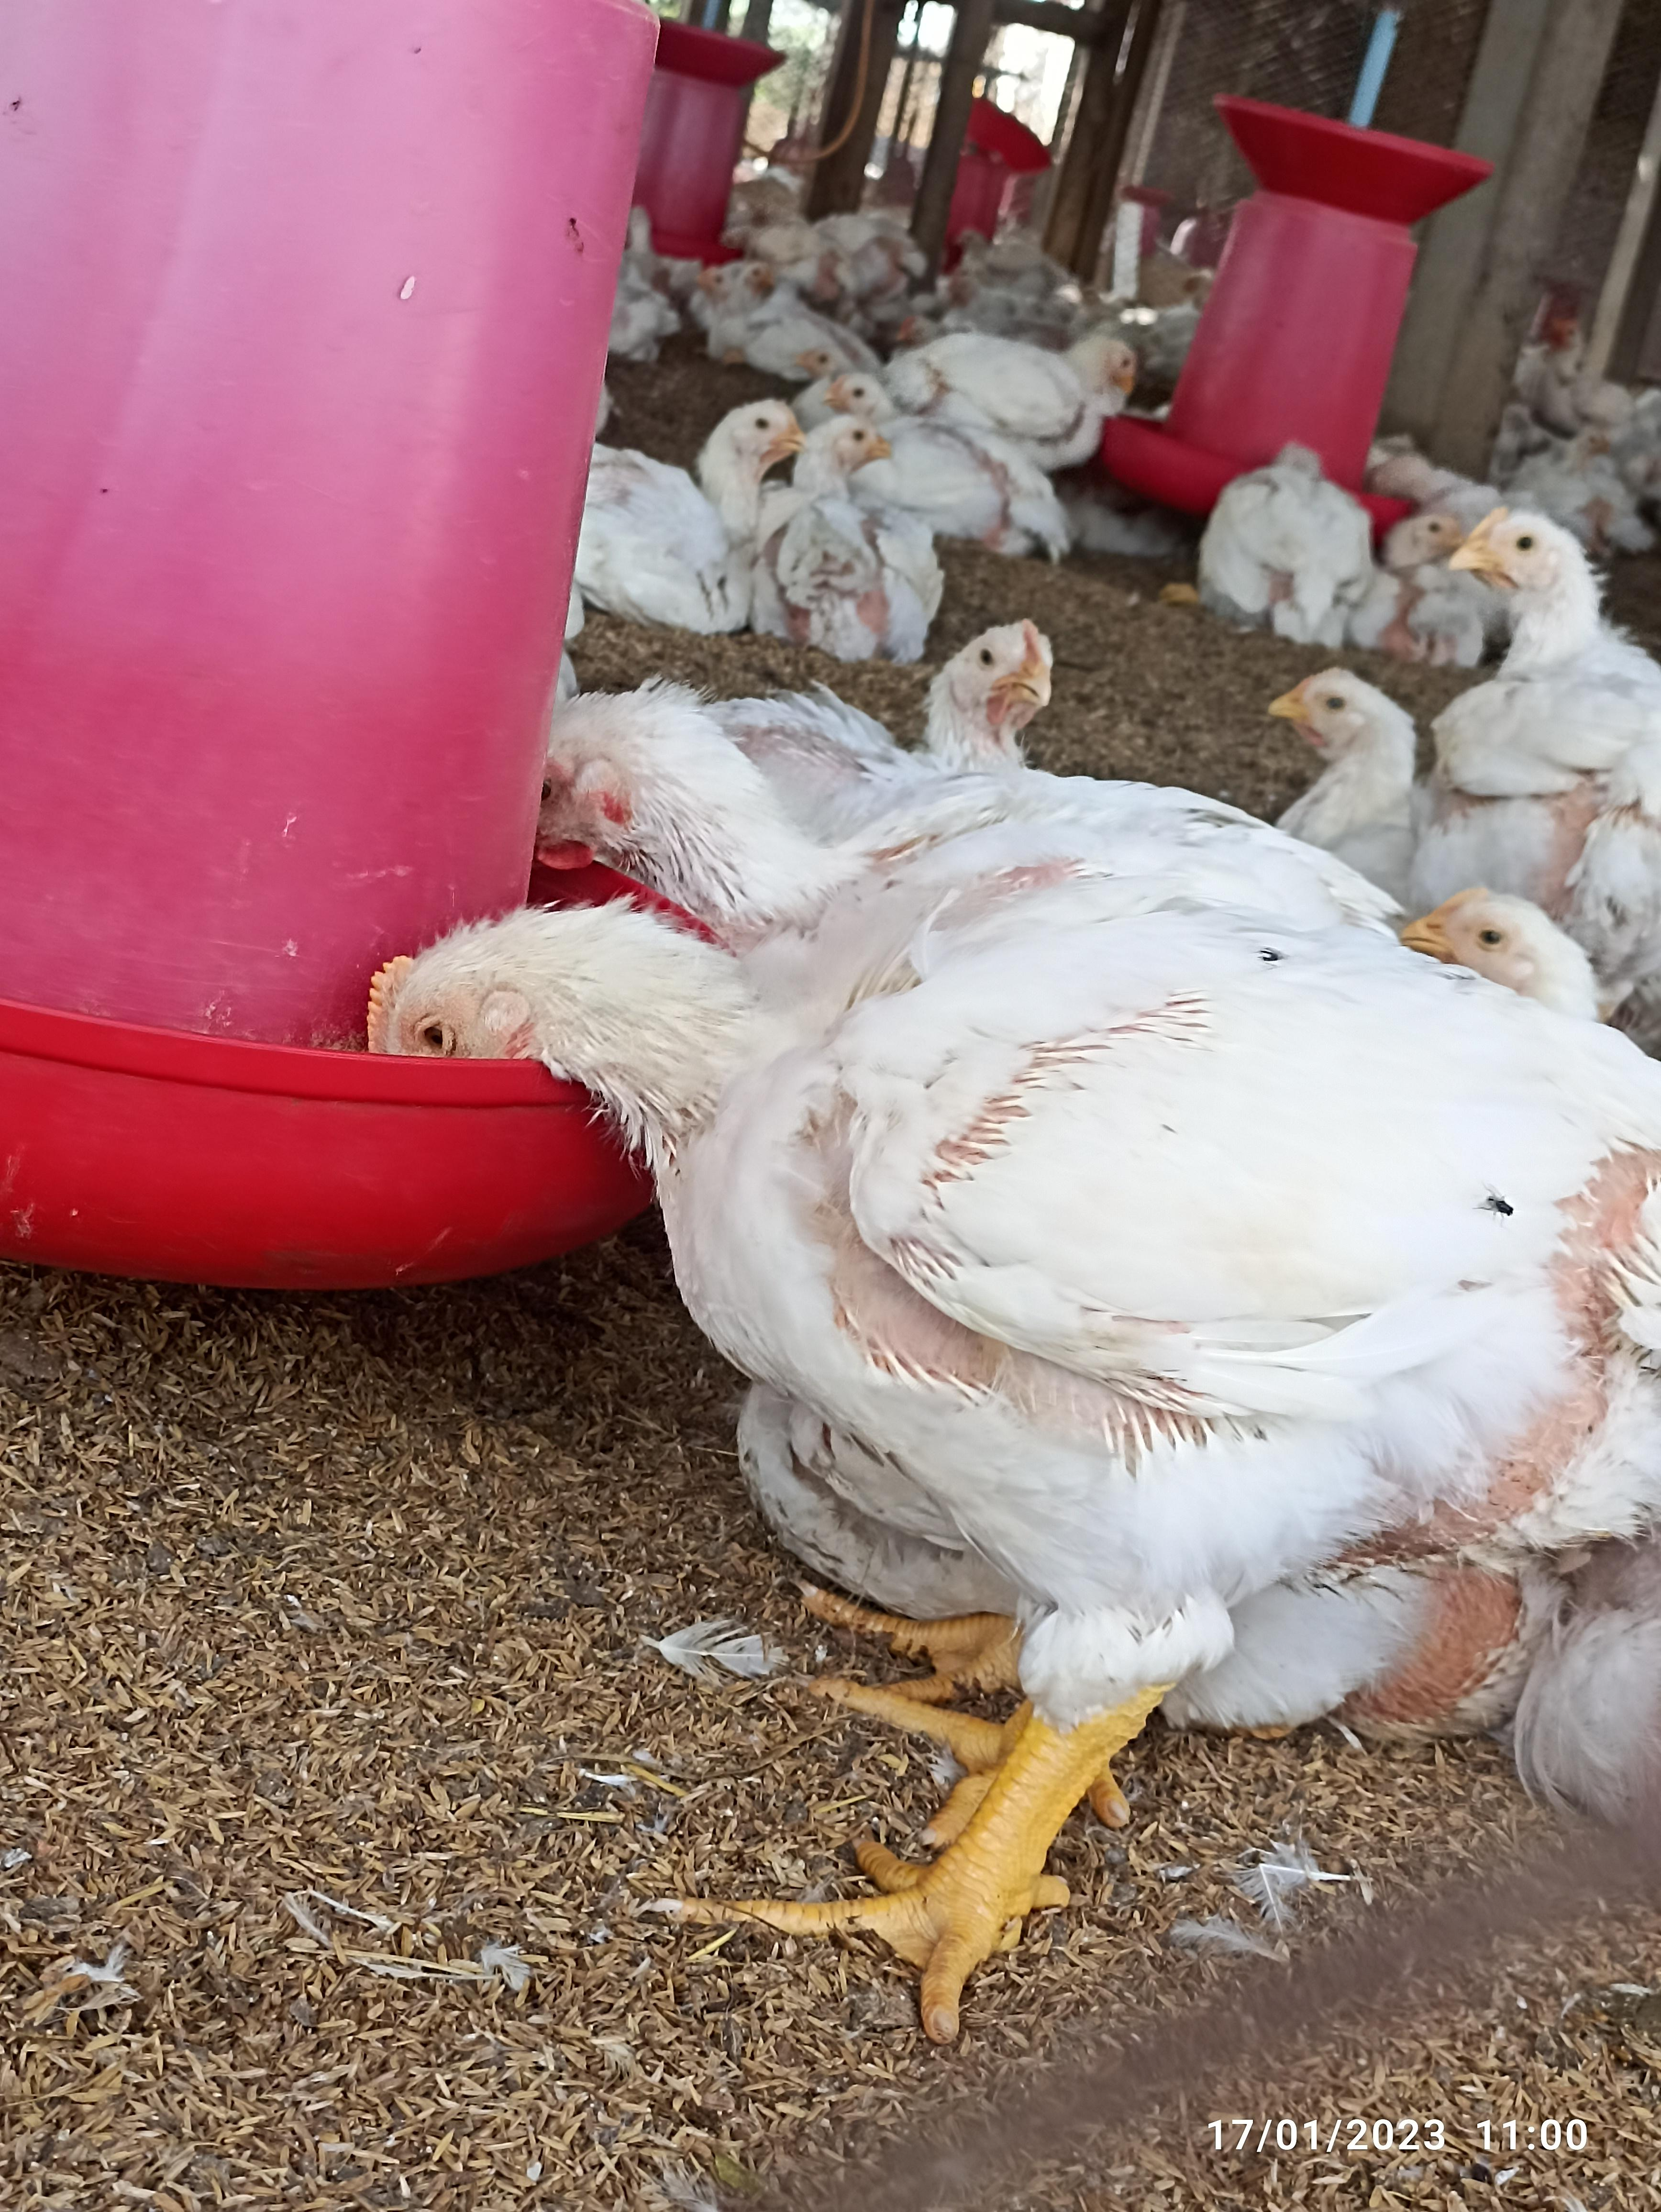Pollos: (377, 907, 1645, 1544), (1445, 506, 1661, 769), (576, 384, 822, 607), (1256, 661, 1445, 870), (1209, 438, 1391, 637), (801, 415, 960, 640), (899, 324, 1129, 431), (919, 618, 1047, 776)
